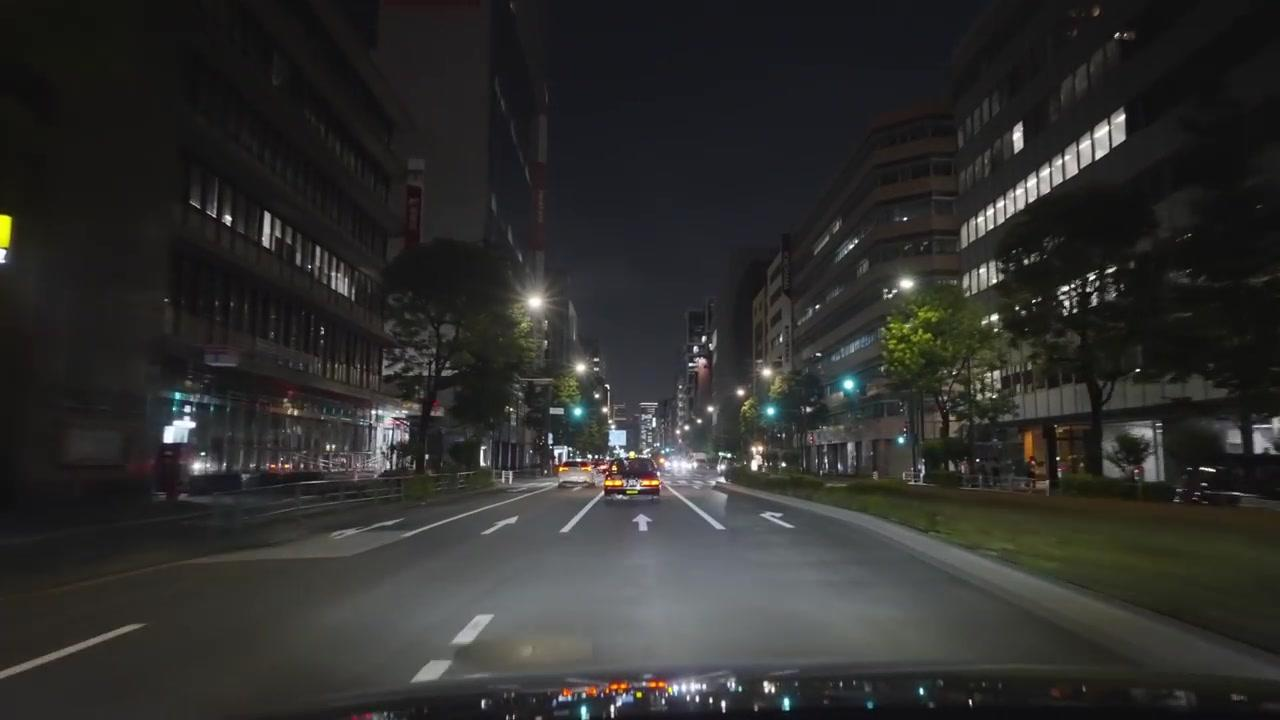car: (1172, 465, 1246, 507), (623, 458, 662, 499), (557, 462, 595, 489), (602, 466, 626, 496)
traffic light: (0, 214, 13, 266), (839, 376, 859, 396), (764, 401, 779, 419), (572, 403, 586, 422), (898, 427, 910, 446)
